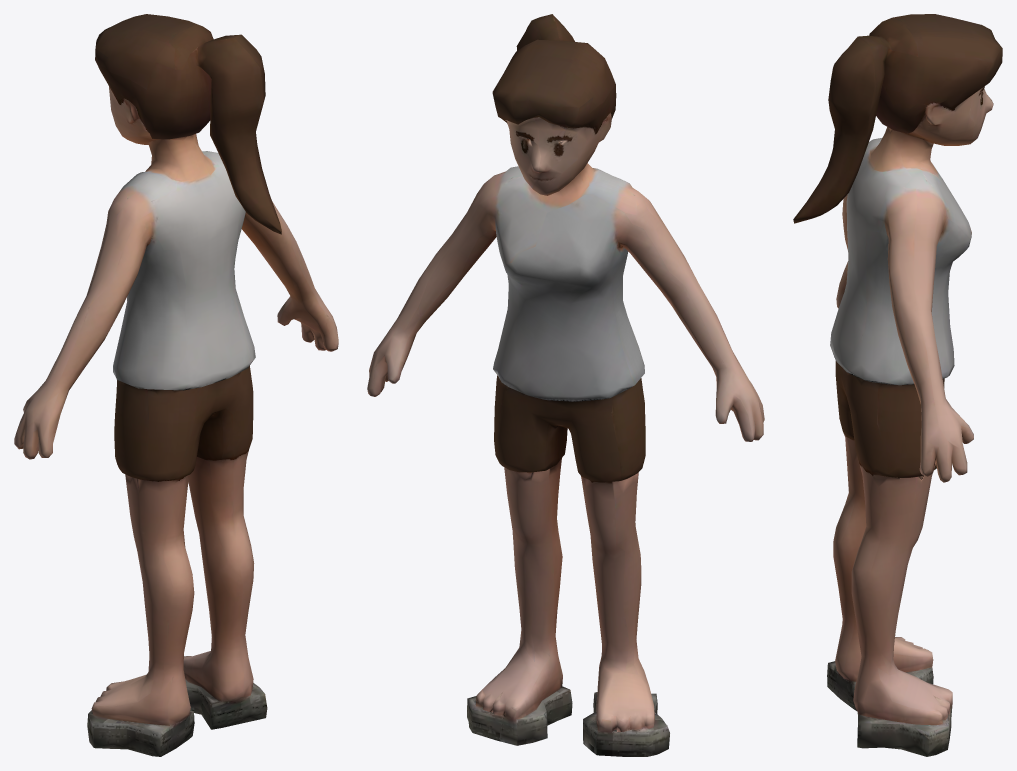
3 views of the same model, side by side, from view 1: azimuth 30°, elevation 25°; view 2: azimuth 150°, elevation 25°; view 3: azimuth 270°, elevation 25° (orthographic).
Visible parts, largest first — view 1: world; view 2: world; view 3: world.
Part boxes in pixels (box(x1,y1,x2,y2)): world: box(14, 14, 338, 756); world: box(367, 14, 764, 756); world: box(793, 14, 1002, 756).
Bounding box in the file's own units: 0.4821 × 0.9135 × 0.2487.
Materials: 1 (1 with a texture image).
